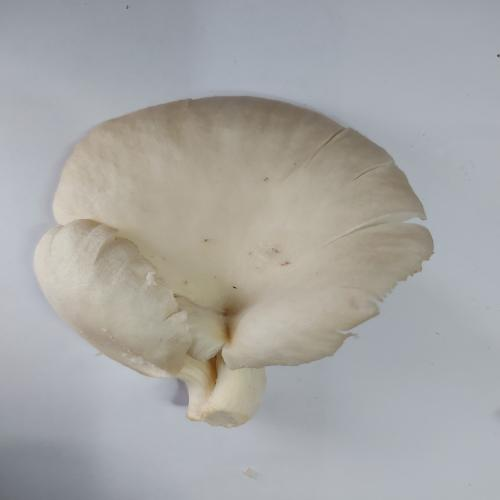Oyster Mushroom: (32, 94, 435, 428)
